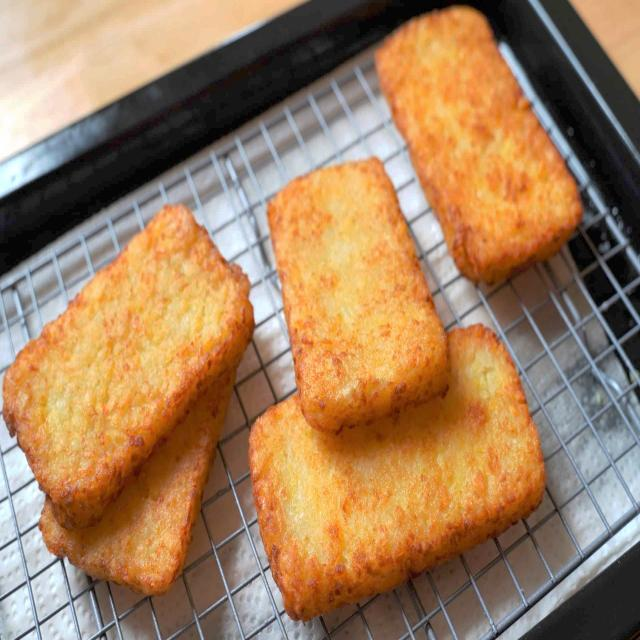Hashbrown: (252, 324, 548, 620), (3, 203, 255, 525), (374, 5, 582, 287), (38, 339, 242, 596), (267, 157, 452, 432)
